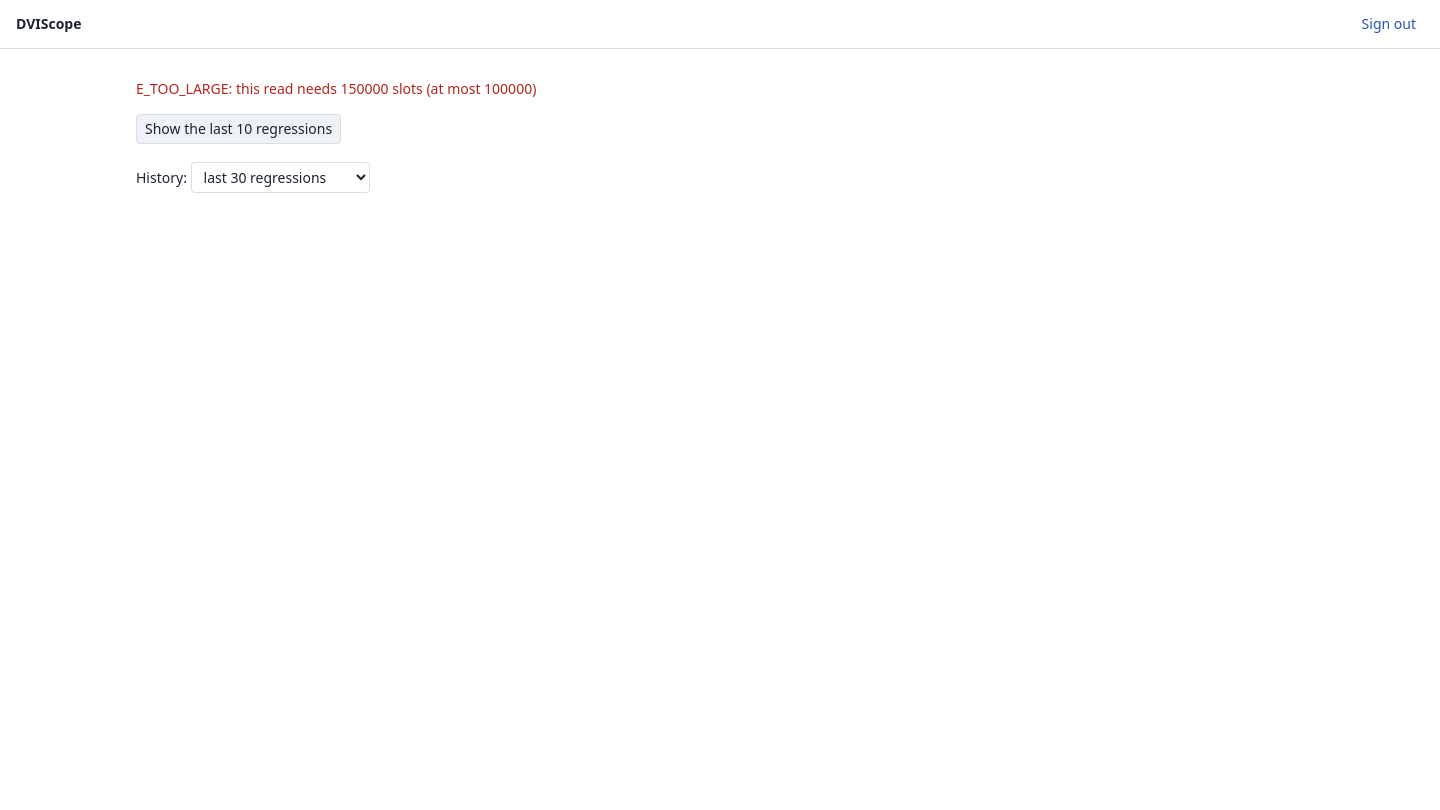
Test: health dashboard › offers a shorter history when the read is too large, and shows overdue streams
This screenshot has width=1440, height=810.
Click the button "Show the last 10 regressions": (239, 129) [136,114,341,144]
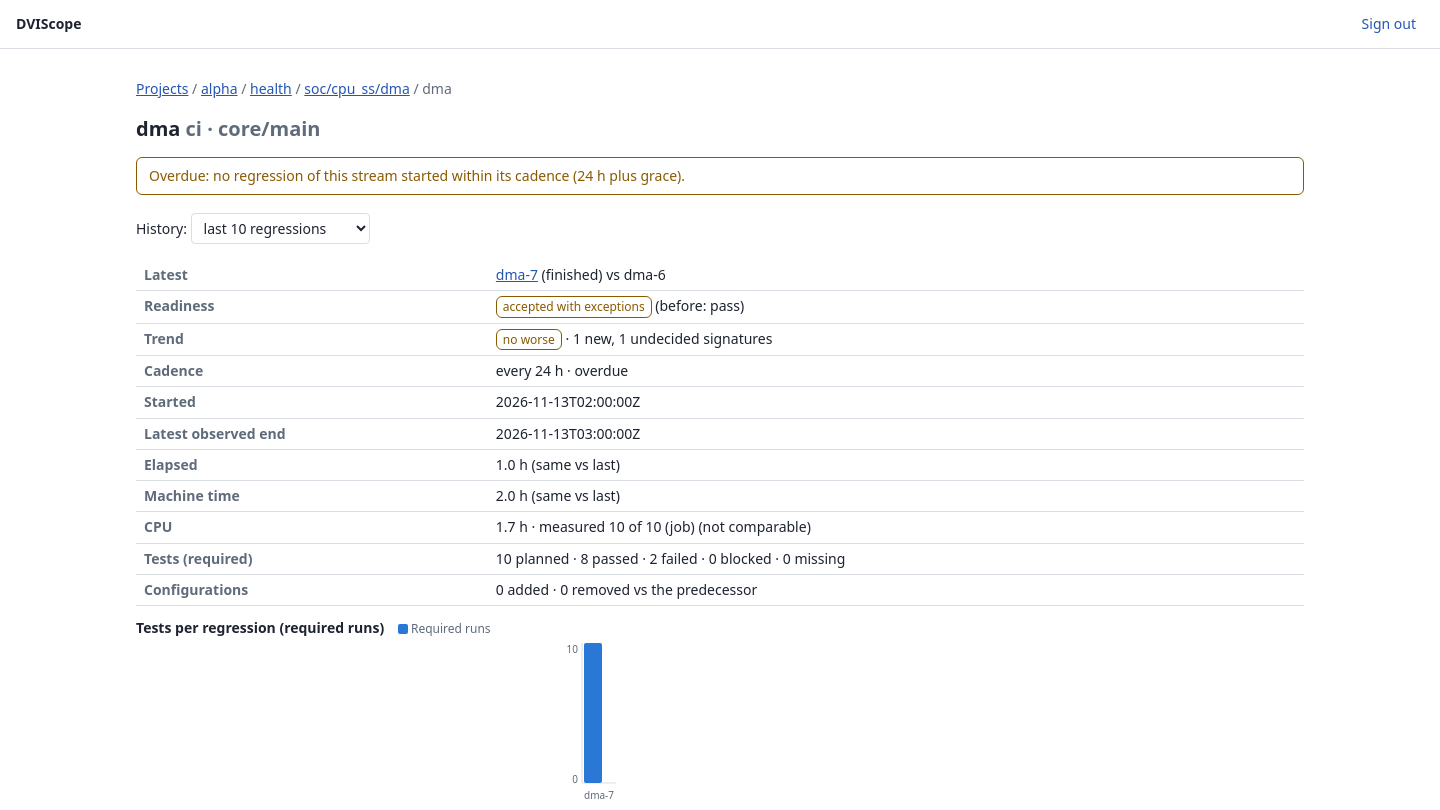
expect the text "Overdue: no regression of this stream started" is shown: met, box [149,166,577,185]
expect the text "every 24 h · overdue" is shown: met, box [488,356,1304,387]
